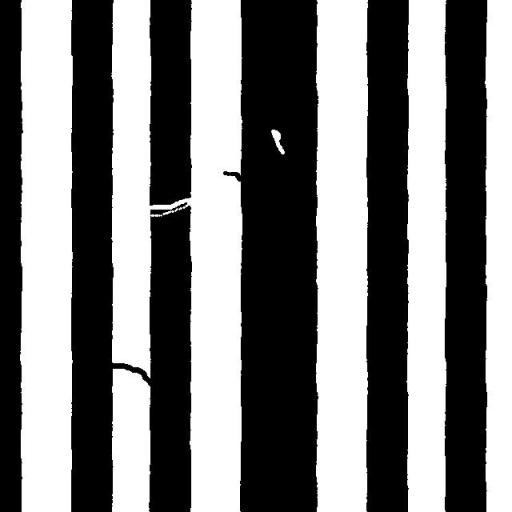open: (136, 190, 203, 224)
pin-hole: (263, 122, 292, 162)
short: (100, 355, 161, 394)
spur: (215, 164, 254, 190)
